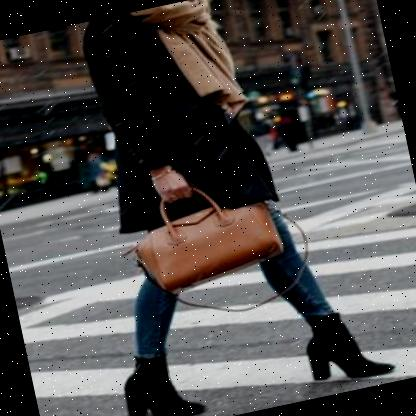bag: (114, 153, 327, 336)
